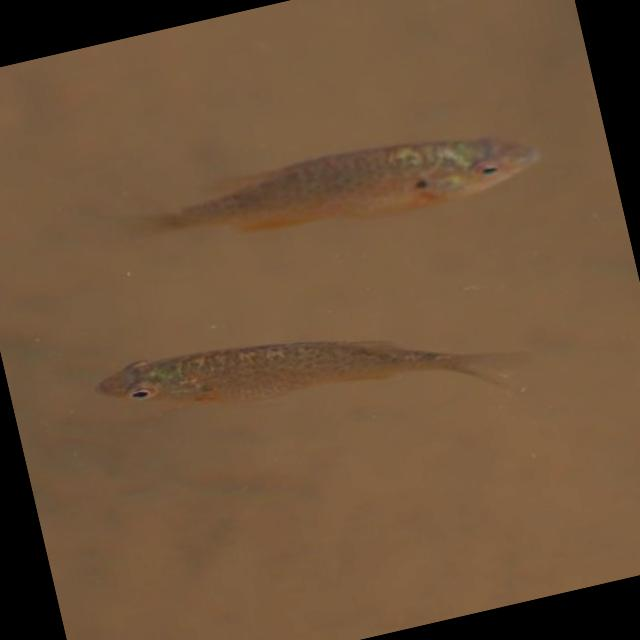Gunes Levregi: (135, 101, 552, 275)
